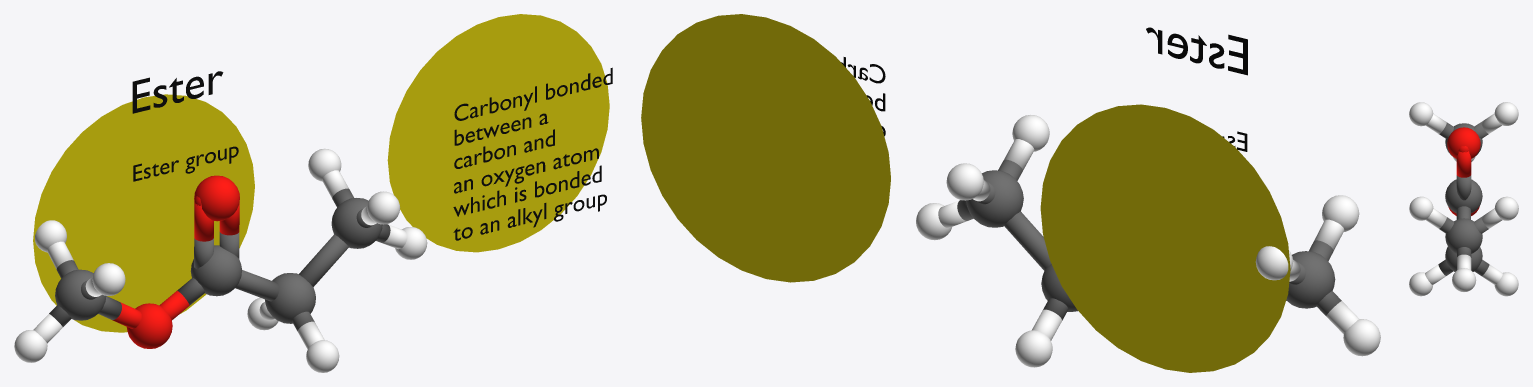
File: 6ester.glb
3 views of the same model, side by side, from view 1: azimuth 30°, elevation 25°; view 2: azimuth 150°, elevation 25°; view 3: azimuth 270°, elevation 25° (orthographic). The views are drawn at different scales.
Parts seen in each view (by area): view 1: Circle.001_3, Circle_0, methyl propanoate_5, Text.004_7, Text.003_6, Text.005_8; view 2: Circle.001_3, Circle_0, methyl propanoate_5, Text.003_6; view 3: methyl propanoate_5.
Boxes of the visible parts, <box> form: Circle.001_3: <box>387,14,609,252</box>; Circle_0: <box>33,94,254,332</box>; methyl propanoate_5: <box>14,148,427,372</box>; Text.004_7: <box>453,67,612,240</box>; Text.003_6: <box>132,71,223,113</box>; Text.005_8: <box>133,146,238,181</box>; Circle.001_3: <box>641,14,890,282</box>; Circle_0: <box>1040,104,1290,372</box>; methyl propanoate_5: <box>916,115,1380,367</box>; Text.003_6: <box>1146,27,1247,75</box>; methyl propanoate_5: <box>1409,102,1518,296</box>.
Size of the model in its own units: 2.78 by 1.31 by 0.5815.
